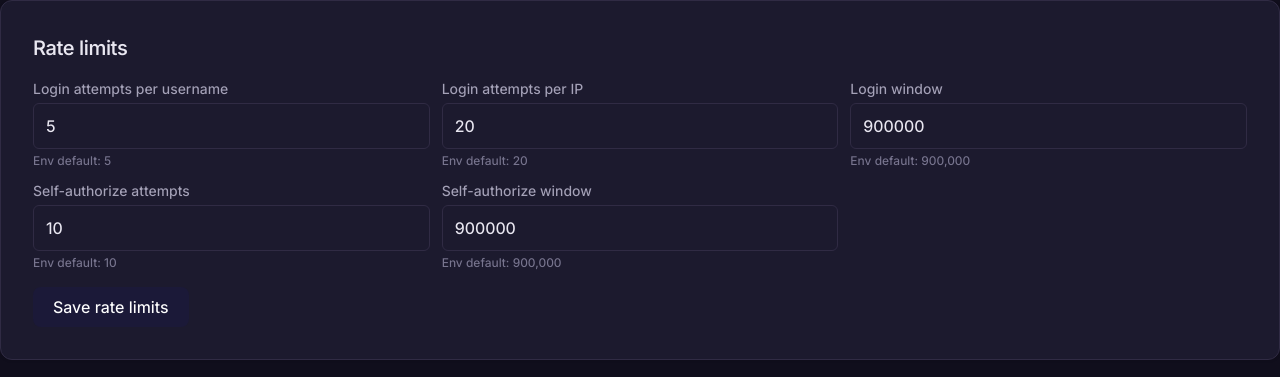
Test case: RateLimitSettings › loads settings and saves edited values
Replace the text in the number field labelled "Login attempts per username Env default: 5" with "2" at (231,126), box 33,103 -> 430,149
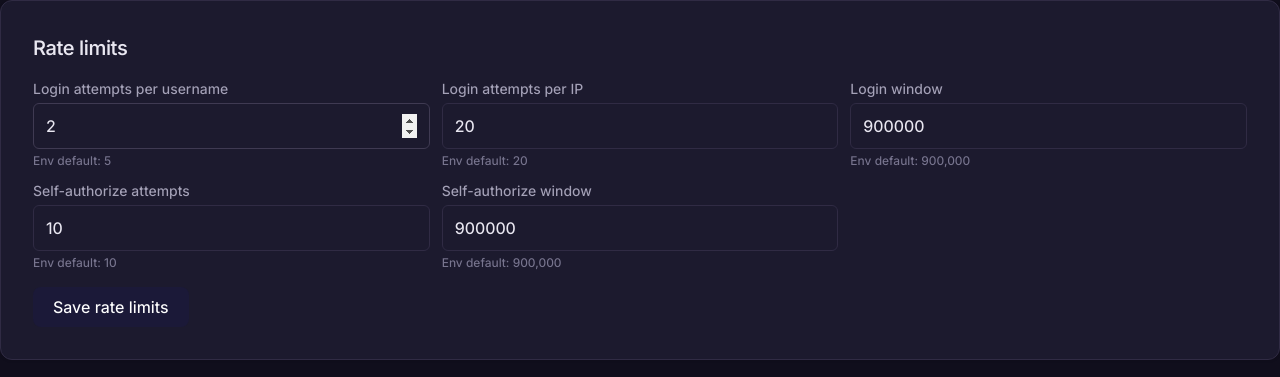
Click the button "Save rate limits" at (111,307), box 33,287 -> 188,327
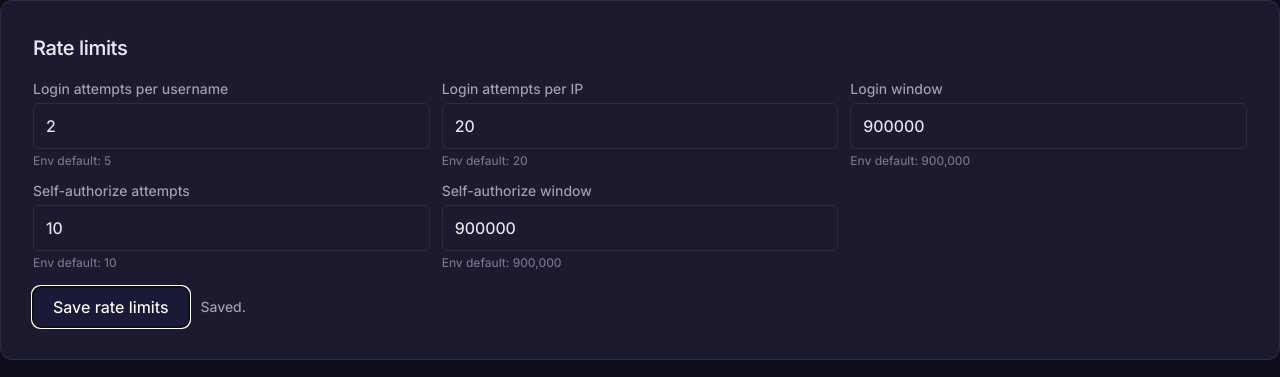
Expected: the text "Saved." is shown, 200,297 -> 246,317
